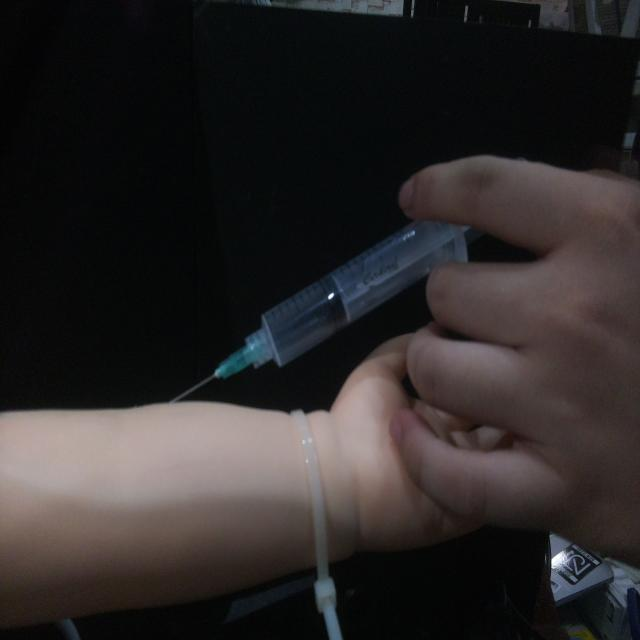17deg: (163, 213, 478, 406)
